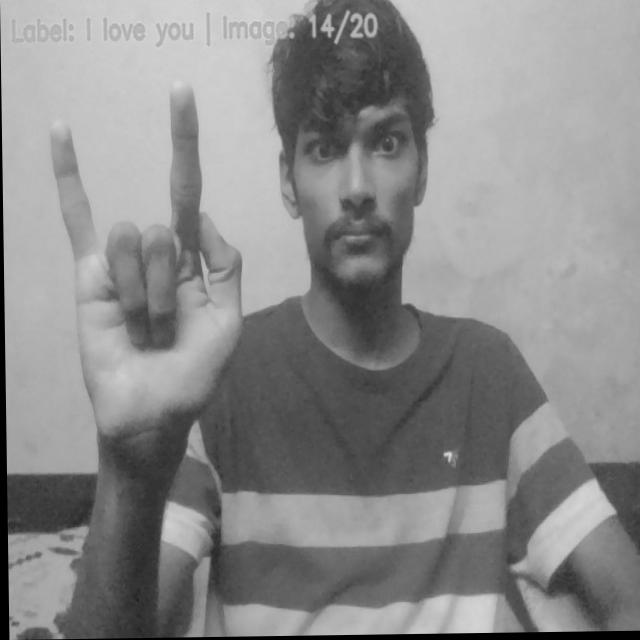I love you: (47, 79, 248, 431)
